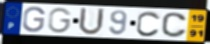9: (108, 10, 129, 36)
C: (135, 10, 162, 38), (161, 12, 189, 39)
G: (21, 6, 47, 34), (48, 7, 74, 34)
U: (77, 6, 106, 37)
